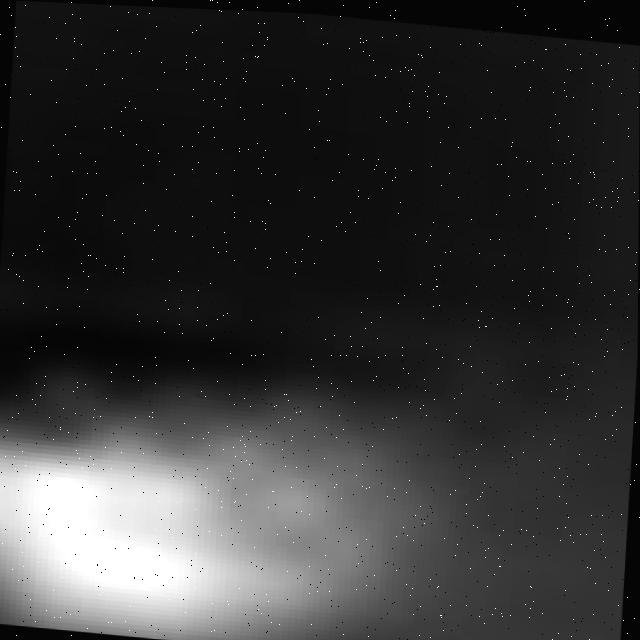person: (1, 370, 416, 640)
